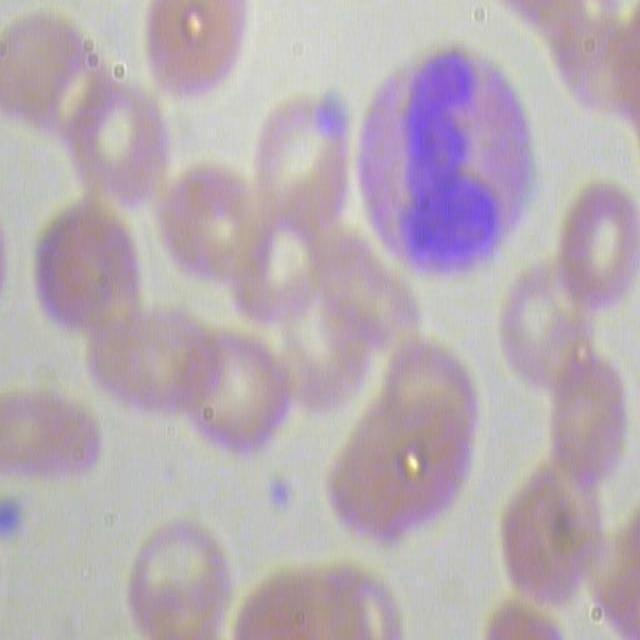Platelets: (263, 472, 299, 521)
RBC: (494, 453, 613, 611), (183, 332, 305, 461), (64, 79, 186, 208), (248, 93, 362, 231), (115, 511, 237, 638), (547, 178, 640, 318), (1, 387, 119, 497), (138, 0, 254, 107), (548, 363, 636, 492)
WBC: (345, 45, 553, 288)
